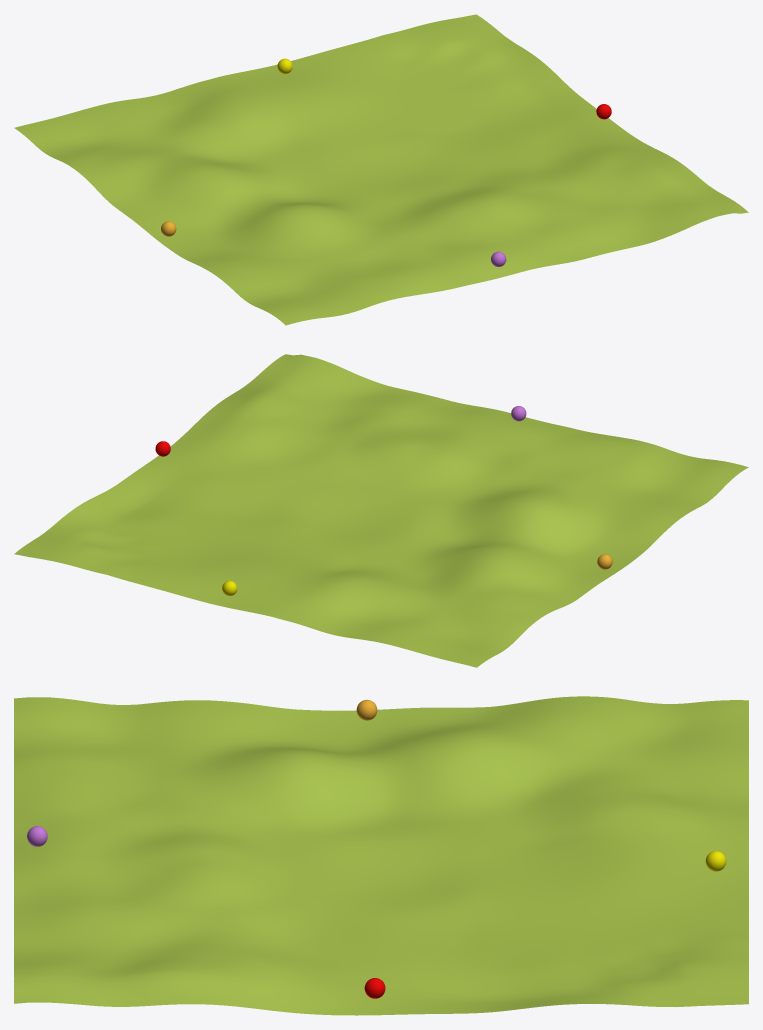
The model's file is marqueurs_chemin_courve3.fbx.
3 views of the same model, one above another, from view 1: azimuth 30°, elevation 25°; view 2: azimuth 150°, elevation 25°; view 3: azimuth 270°, elevation 25° (orthographic). The views are drawn at different scales.
Visible parts, largest first — view 1: chemin_courve3; view 2: chemin_courve3; view 3: chemin_courve3.
Part boxes in pixels (left/top/right/bottom): chemin_courve3: left=14, top=14, right=748, bottom=325; chemin_courve3: left=14, top=354, right=748, bottom=667; chemin_courve3: left=14, top=696, right=748, bottom=1015.
Size of the model in its own units: 709 by 36.6 by 720.
